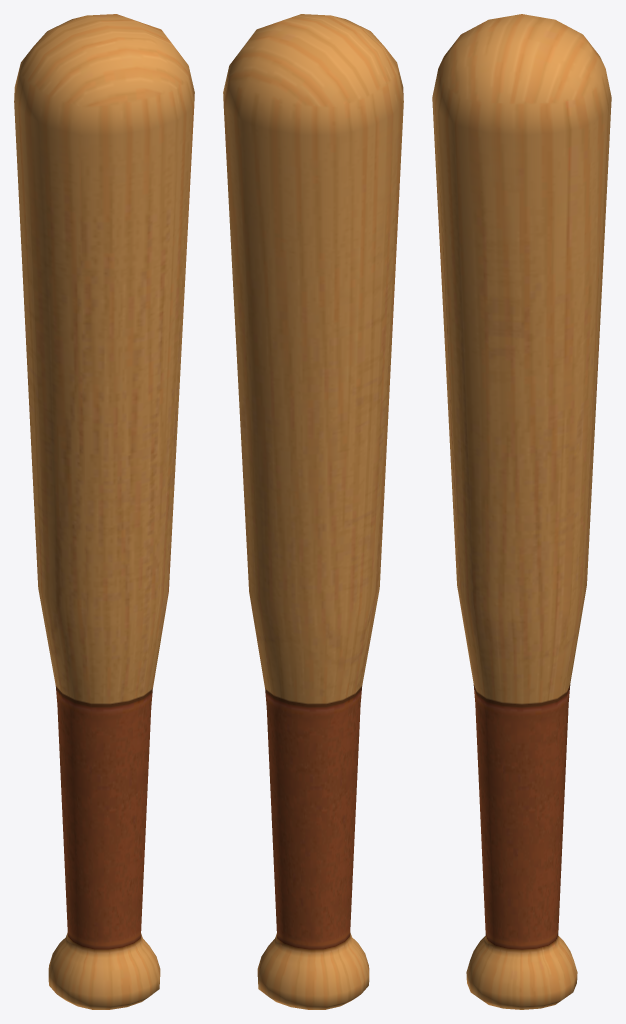
File: 0-baseballbat_brown.fbx
The picture shows the model from 3 angles, left to right: view 1: azimuth 30°, elevation 25°; view 2: azimuth 150°, elevation 25°; view 3: azimuth 270°, elevation 25°; orthographic projection.
Parts seen in each view (by area): view 1: 0-baseballbat_brown; view 2: 0-baseballbat_brown; view 3: 0-baseballbat_brown.
Boxes of the visible parts, x1,y1,x2,y2 form: 0-baseballbat_brown: [14, 14, 194, 1009]; 0-baseballbat_brown: [223, 14, 403, 1009]; 0-baseballbat_brown: [432, 14, 611, 1009].
Size of the model in its own units: 15.38 by 91.69 by 15.38.
